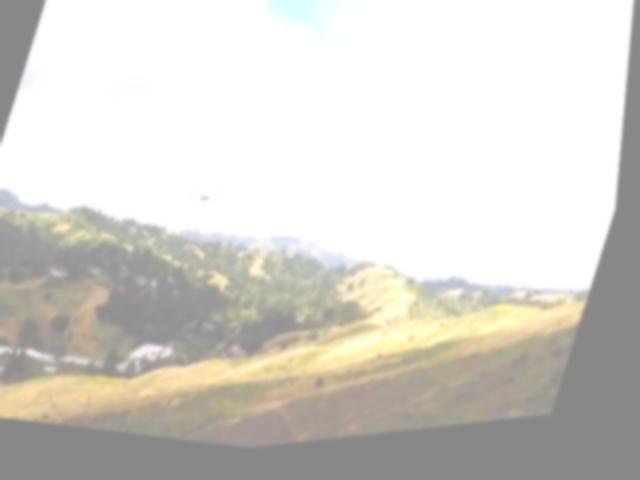iha: (187, 184, 236, 216)
